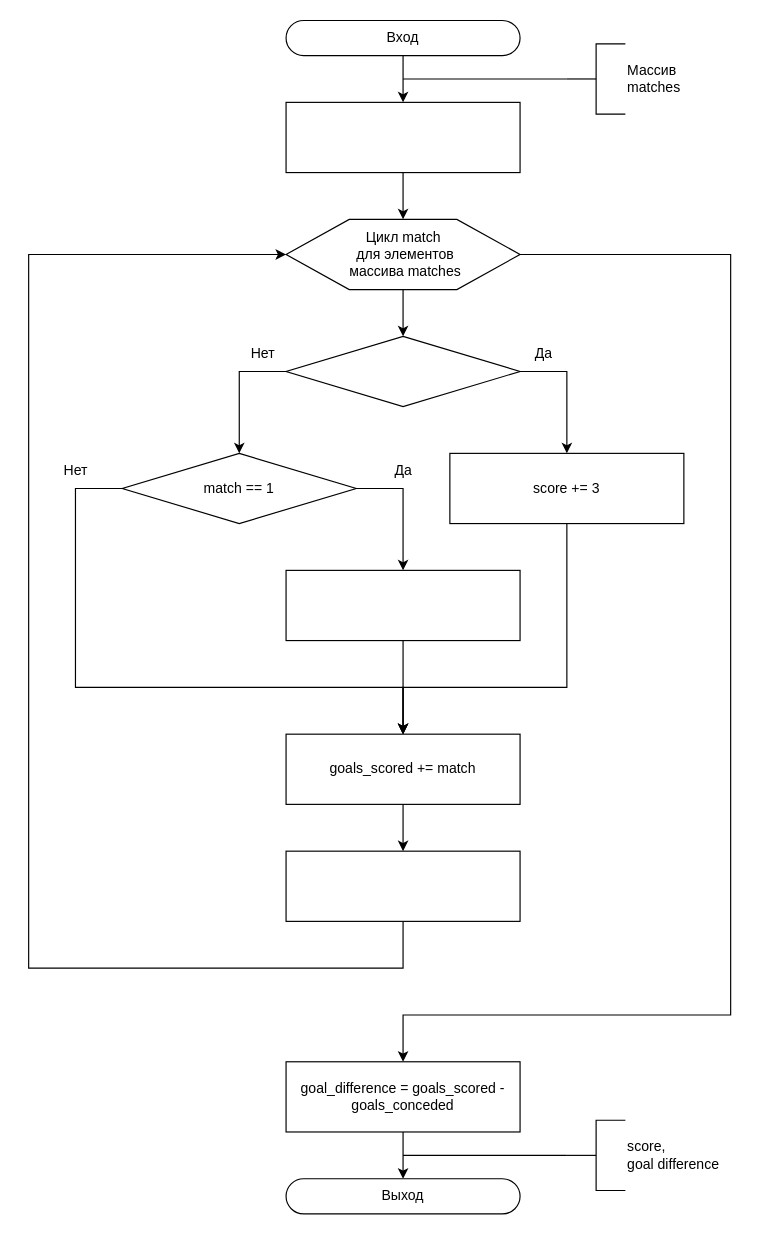
Some shapes in this 761 by 1234 pixel diagram are drawn without their labels. Each missing label, with the centre of its shape:
goals_concedred += match: (402,885)
match == 3: (402,371)
score += 1: (402,605)
score = 0, goal_scored = 0, goal_conceded = 0: (402,137)
